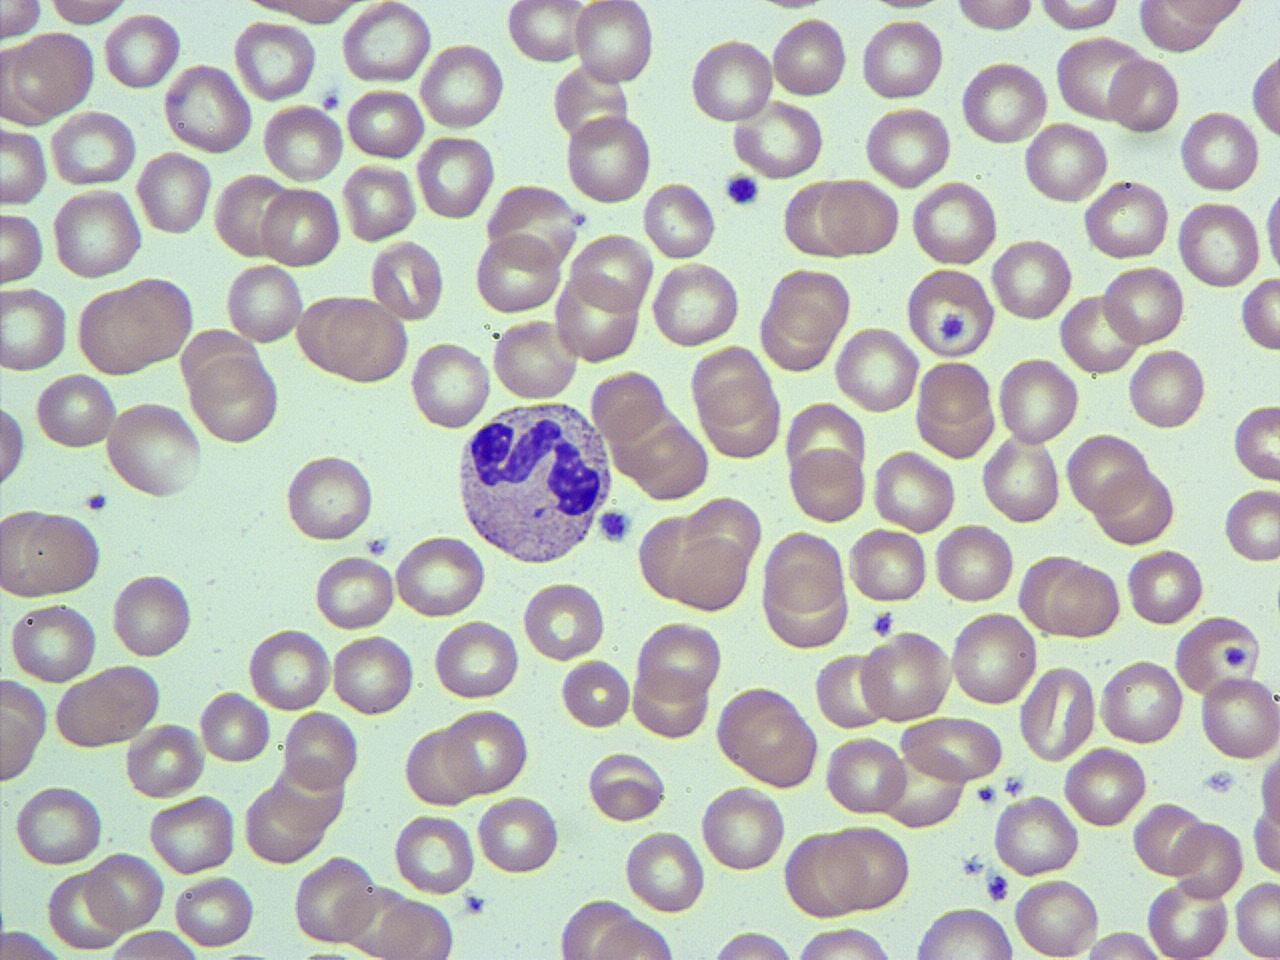Platelets: (596, 505, 634, 548), (722, 170, 762, 209), (1201, 766, 1235, 796), (869, 608, 897, 641), (984, 870, 1010, 901), (82, 490, 112, 514), (959, 856, 984, 876), (365, 536, 390, 556), (321, 90, 341, 112), (974, 784, 996, 804)
RBC: (74, 276, 190, 375), (714, 685, 822, 790), (102, 399, 206, 501), (947, 608, 1040, 710), (49, 183, 144, 280), (51, 664, 158, 750), (856, 628, 954, 722), (904, 264, 998, 360), (312, 296, 412, 386), (562, 112, 656, 207), (284, 450, 378, 545), (160, 61, 254, 154), (416, 39, 507, 134), (914, 356, 998, 458), (648, 260, 743, 350), (554, 270, 643, 366), (908, 177, 1000, 269), (440, 705, 532, 797), (820, 821, 912, 913), (188, 356, 282, 446), (12, 508, 105, 598), (833, 324, 922, 416), (990, 791, 1082, 880), (408, 336, 493, 434), (1018, 662, 1098, 764), (687, 35, 778, 125), (1053, 33, 1145, 122), (1176, 197, 1264, 289), (862, 102, 954, 190), (698, 782, 786, 874), (290, 853, 377, 947), (5, 600, 100, 686), (393, 535, 489, 620), (728, 98, 826, 179), (958, 59, 1051, 146), (633, 616, 726, 703), (471, 230, 563, 317), (109, 568, 195, 662), (995, 355, 1081, 447), (245, 625, 335, 713), (1061, 742, 1149, 832), (330, 629, 416, 720), (1011, 874, 1103, 960), (490, 317, 582, 402), (430, 616, 522, 702), (12, 783, 106, 866), (339, 2, 434, 84), (760, 527, 848, 616), (869, 447, 957, 534), (898, 713, 1006, 785), (474, 792, 562, 878), (1173, 612, 1265, 696), (980, 434, 1062, 526), (1098, 658, 1184, 746), (566, 230, 656, 315), (148, 792, 238, 876), (8, 29, 99, 113), (572, 0, 656, 91), (47, 106, 141, 187), (1099, 261, 1185, 348), (858, 16, 945, 102), (257, 183, 343, 270), (414, 131, 497, 222), (1022, 118, 1109, 204), (823, 732, 910, 818), (1144, 875, 1232, 960), (1178, 106, 1262, 195), (1081, 178, 1171, 261), (1126, 344, 1208, 434), (782, 828, 863, 920), (222, 261, 307, 347), (932, 520, 1017, 607), (392, 810, 476, 896), (1057, 291, 1141, 377), (622, 828, 706, 914), (232, 18, 317, 102), (1198, 674, 1280, 761), (990, 236, 1072, 322), (520, 578, 606, 661), (688, 344, 772, 428), (818, 174, 902, 258), (259, 101, 344, 184), (1064, 432, 1150, 513), (45, 865, 125, 952), (368, 235, 446, 323), (134, 148, 212, 237), (33, 370, 116, 453), (86, 849, 167, 933), (313, 551, 398, 631), (787, 441, 868, 525), (770, 14, 849, 101), (101, 10, 183, 92), (846, 526, 930, 606), (1016, 550, 1092, 638), (1095, 466, 1177, 547), (281, 708, 362, 791), (1124, 546, 1206, 626), (632, 419, 712, 502), (344, 85, 427, 163), (768, 266, 853, 344), (124, 719, 205, 800), (173, 871, 256, 950), (640, 178, 718, 262), (672, 532, 751, 614), (0, 282, 70, 374), (197, 686, 273, 768), (813, 648, 889, 732), (1170, 818, 1246, 902), (340, 160, 417, 241), (780, 176, 856, 259), (401, 724, 476, 808), (585, 749, 667, 824), (1108, 53, 1182, 136), (910, 902, 1016, 959), (1049, 560, 1123, 640), (628, 668, 710, 740), (756, 301, 836, 374), (559, 652, 632, 732), (0, 676, 50, 784), (504, 0, 586, 66), (375, 895, 458, 960), (1133, 0, 1225, 54), (1222, 484, 1280, 564), (0, 122, 51, 208), (591, 914, 678, 960), (788, 923, 899, 959), (1231, 402, 1279, 484), (1232, 878, 1280, 958), (0, 210, 47, 286), (1238, 273, 1280, 354), (106, 926, 204, 960), (708, 927, 802, 960), (1080, 926, 1172, 960), (950, 0, 1038, 35), (0, 390, 28, 496), (1034, 0, 1124, 33), (1249, 49, 1279, 145), (1155, 0, 1251, 29), (42, 0, 134, 28), (1, 925, 71, 960), (1256, 740, 1280, 841), (1251, 800, 1279, 880), (1, 0, 46, 42)
WBC: (452, 396, 618, 568)
